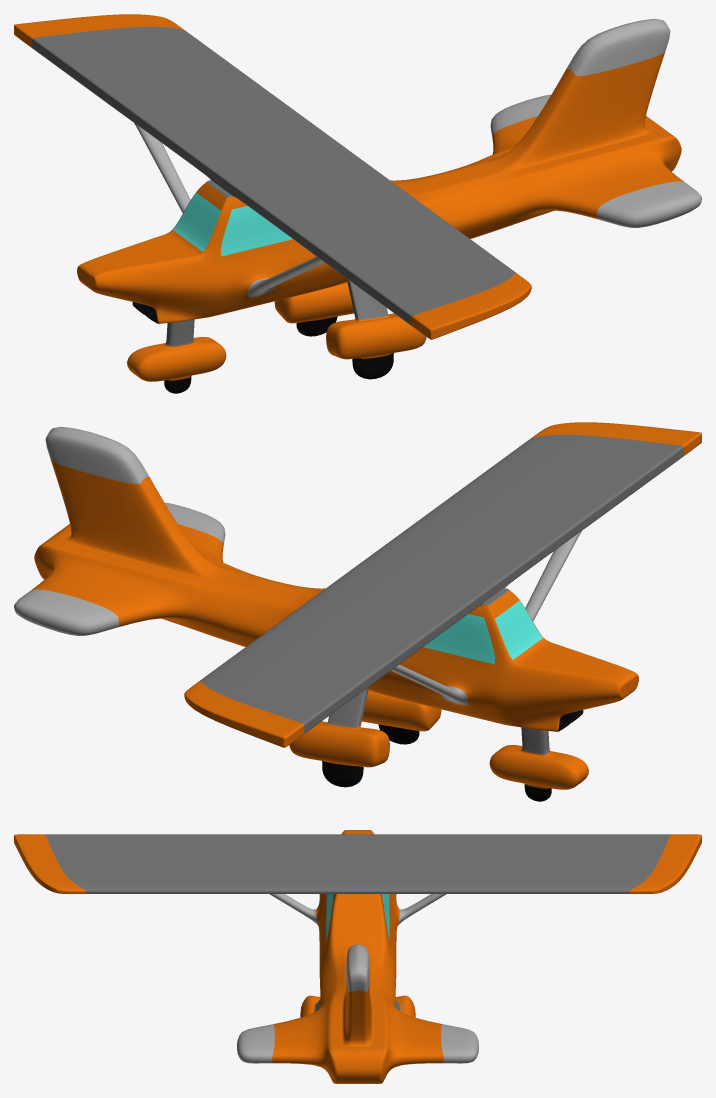
The model's file is VERTOLET 1.fbx.
3 views of the same model, one above another, from view 1: azimuth 30°, elevation 25°; view 2: azimuth 150°, elevation 25°; view 3: azimuth 270°, elevation 25° (orthographic). The views are drawn at different scales.
Visible parts, largest first — view 1: Cube; view 2: Cube; view 3: Cube.
Part boxes in pixels (x1,y1,x2,y2): Cube: (14, 14, 701, 393); Cube: (14, 422, 701, 801); Cube: (14, 830, 701, 1083).
Bounding box in the file's own units: 6795 × 2363 × 5475.
